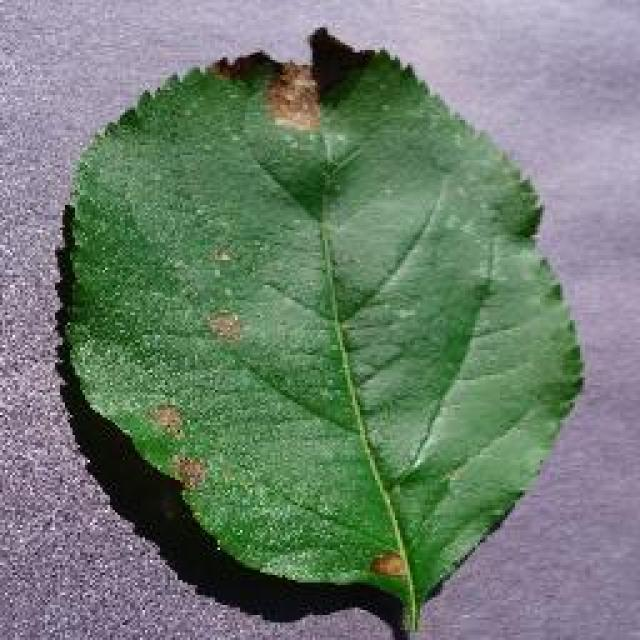Black_rot: (53, 25, 585, 635)
